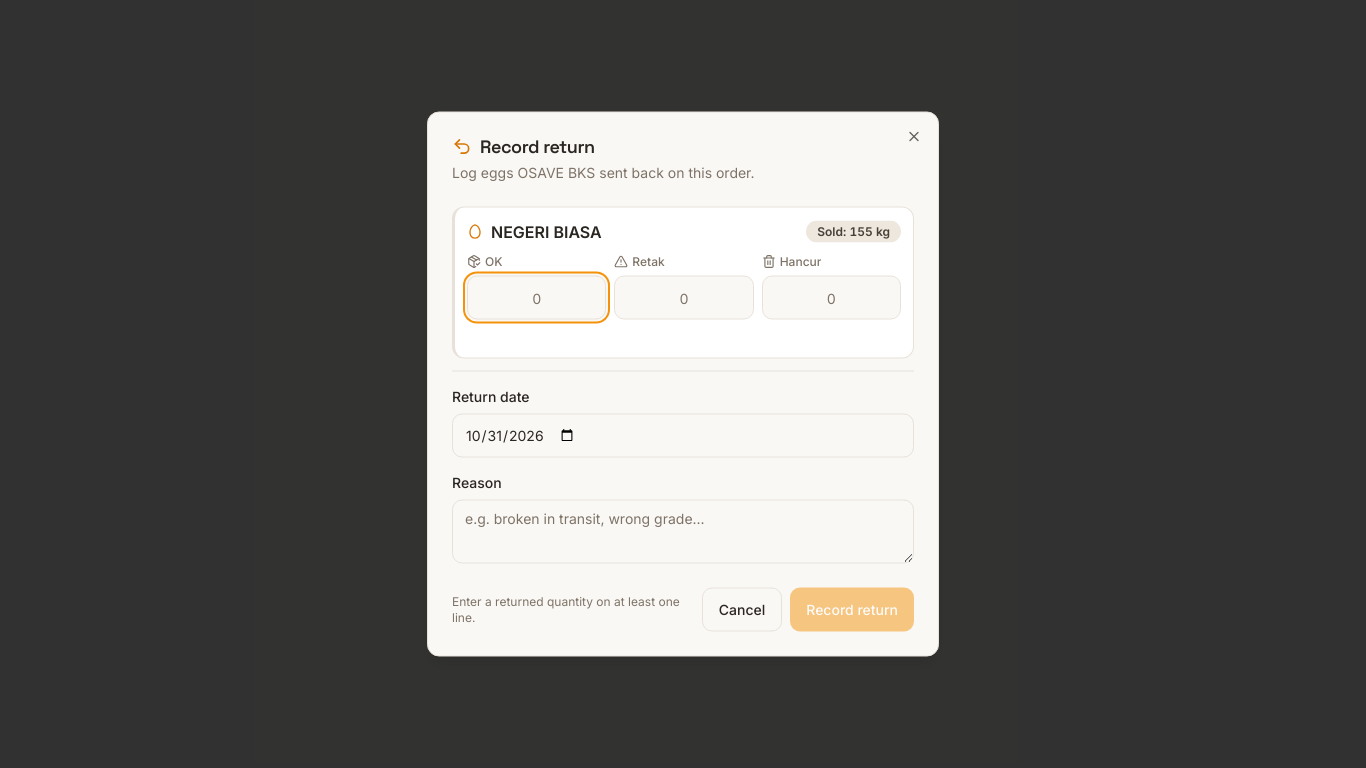
Test case: RecordReturnDialog › caps the second bucket by the room the first bucket left
Type "100" into the field labelled "OK" at coordinates (537, 298), box left=467, top=276, right=606, bottom=320
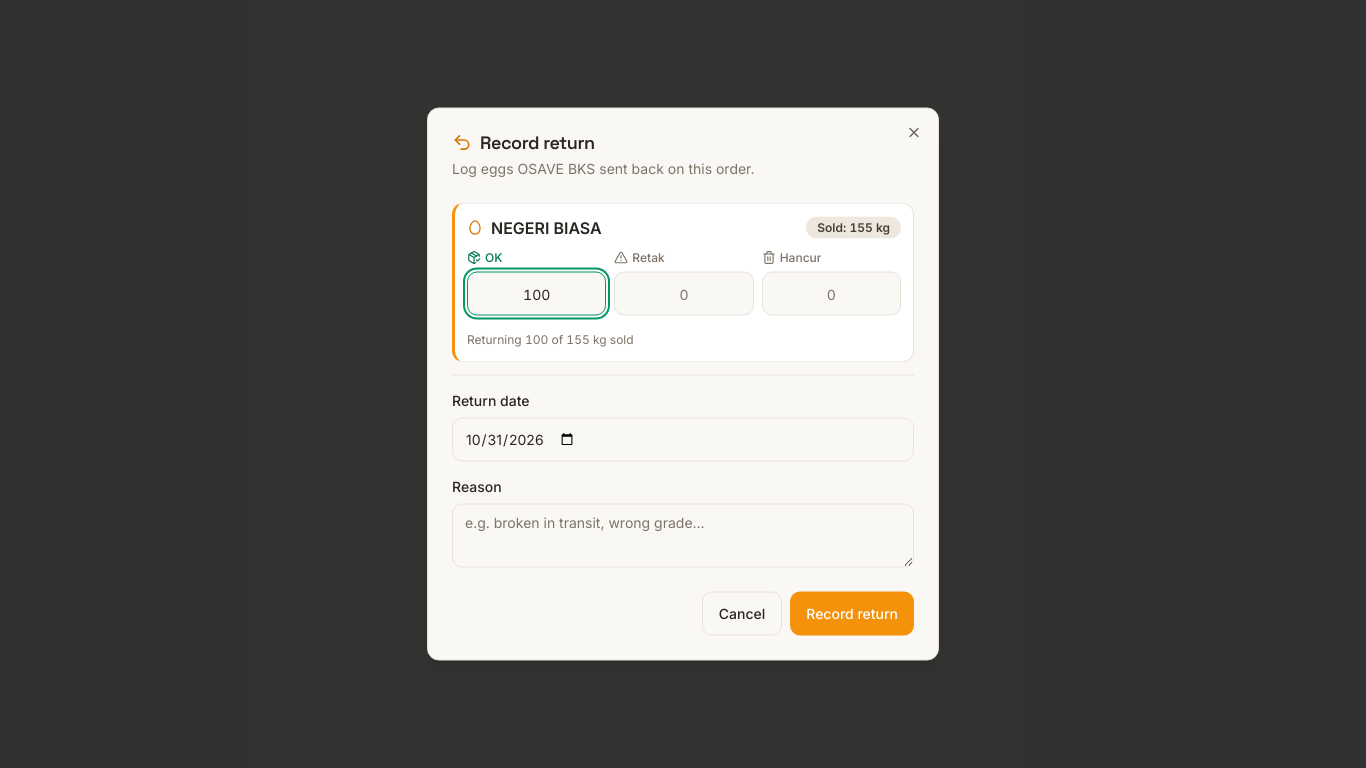
Type "90" into the field labelled "Hancur" at coordinates (831, 294), box left=762, top=272, right=901, bottom=316
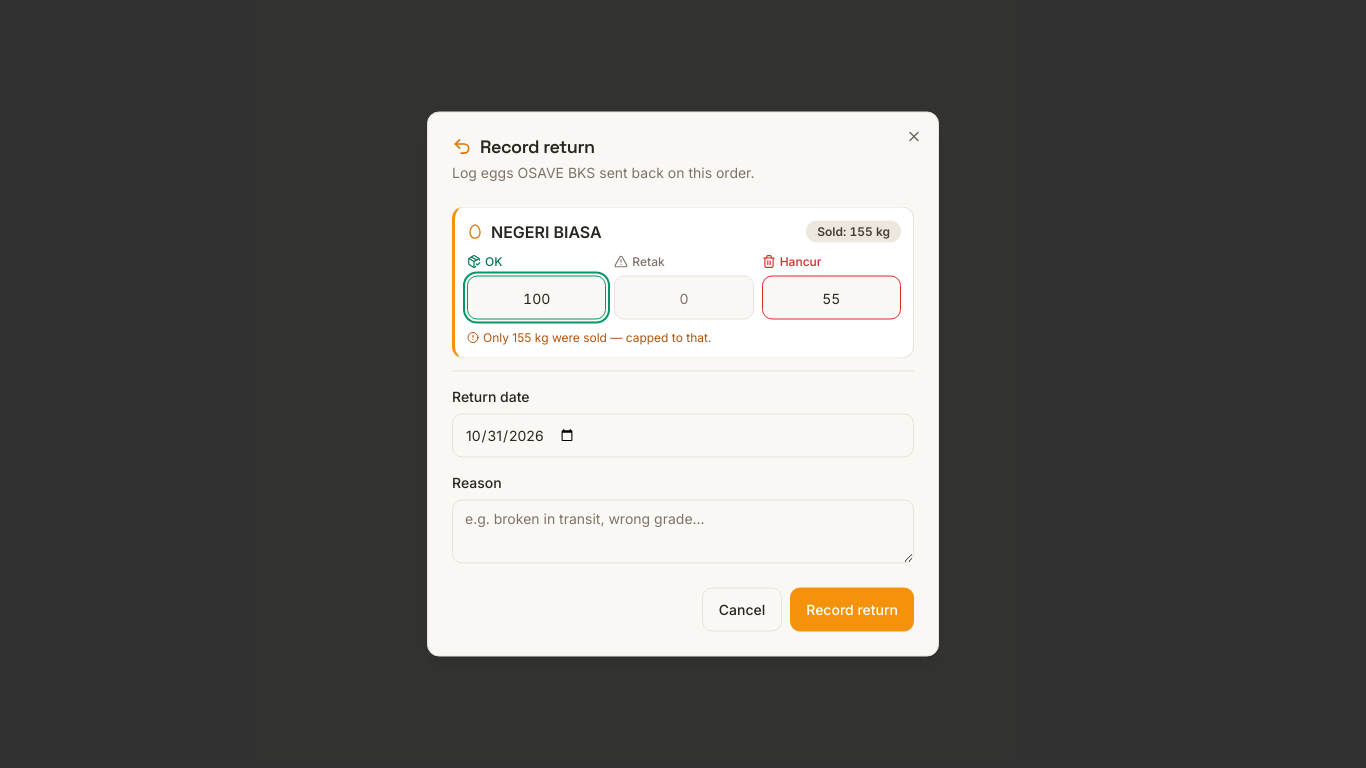
Result: the field labelled "Hancur" holds "55" at left=762, top=276, right=901, bottom=320
